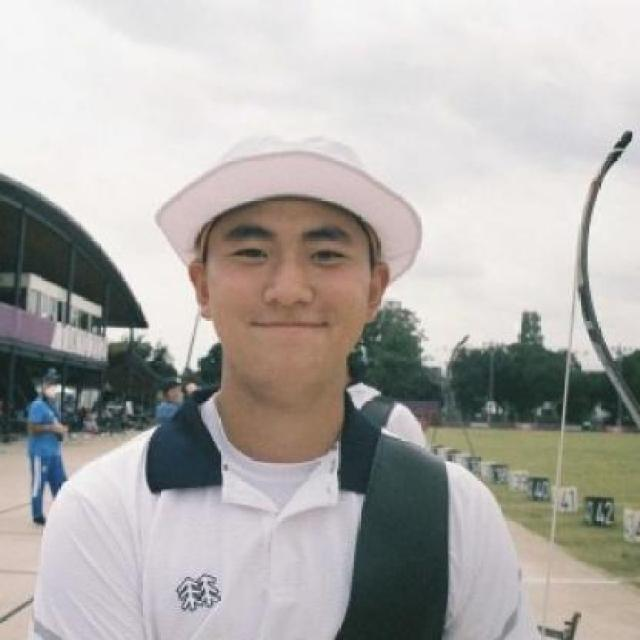hat: (147, 132, 425, 285)
